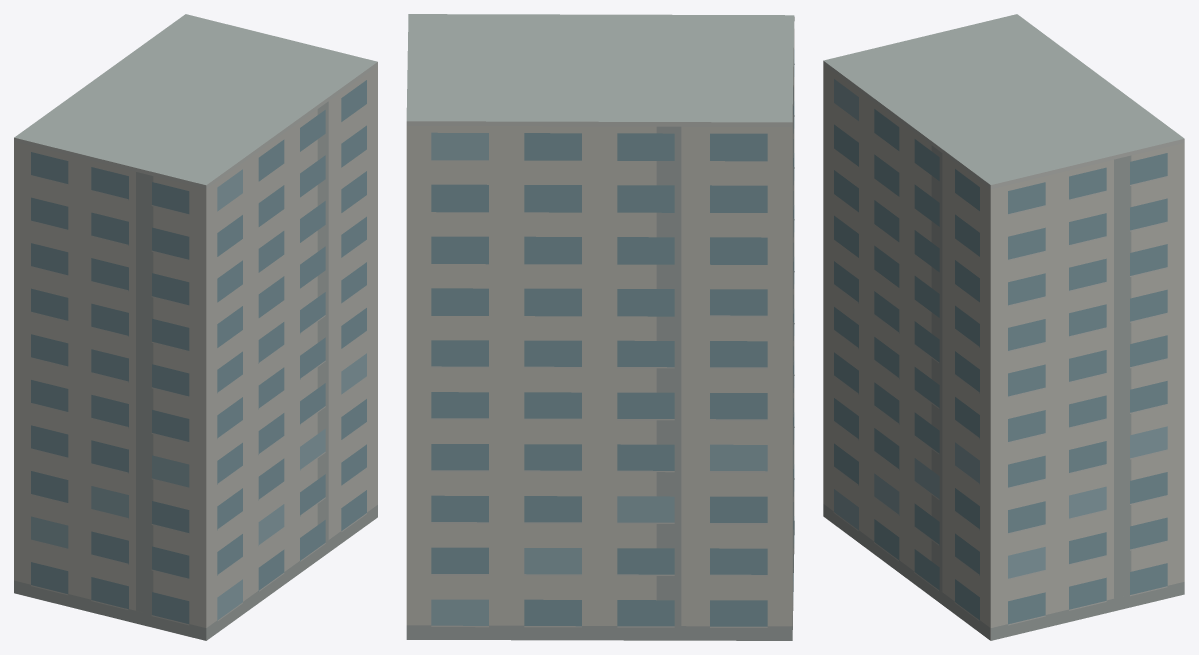
File: residential-ba909f15-6bef-41bb-b047-fca915013ae0.glb
3 views of the same model, side by side, from view 1: azimuth 30°, elevation 25°; view 2: azimuth 150°, elevation 25°; view 3: azimuth 270°, elevation 25° (orthographic). The views are drawn at different scales.
Visible parts, largest first — view 1: residential-ba909f15-6bef-41bb-b047-fca915013ae0.tmp; view 2: residential-ba909f15-6bef-41bb-b047-fca915013ae0.tmp; view 3: residential-ba909f15-6bef-41bb-b047-fca915013ae0.tmp.
Boxes of the visible parts, <box> form: residential-ba909f15-6bef-41bb-b047-fca915013ae0.tmp: <box>14,14,377,640</box>; residential-ba909f15-6bef-41bb-b047-fca915013ae0.tmp: <box>406,14,794,640</box>; residential-ba909f15-6bef-41bb-b047-fca915013ae0.tmp: <box>823,14,1184,640</box>.
Size of the model in its own units: 22.56 by 28 by 20.14.
